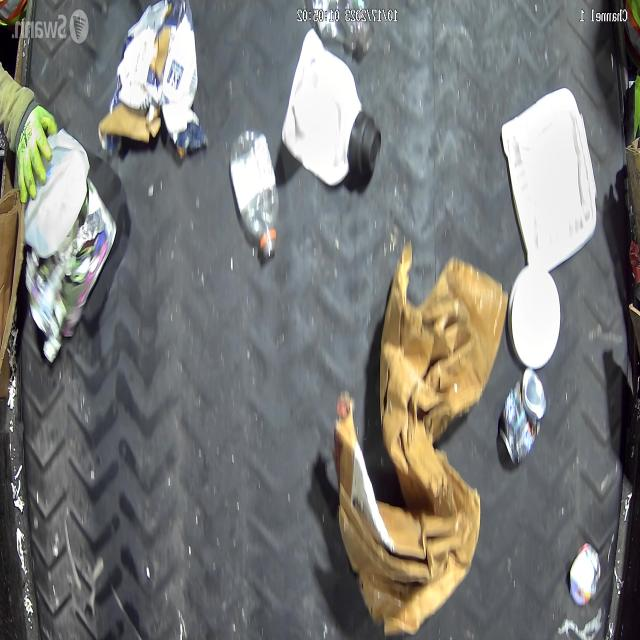can: (498, 365, 543, 466)
milk_jug: (22, 132, 90, 258)
plastic_bottle: (228, 127, 279, 260)
